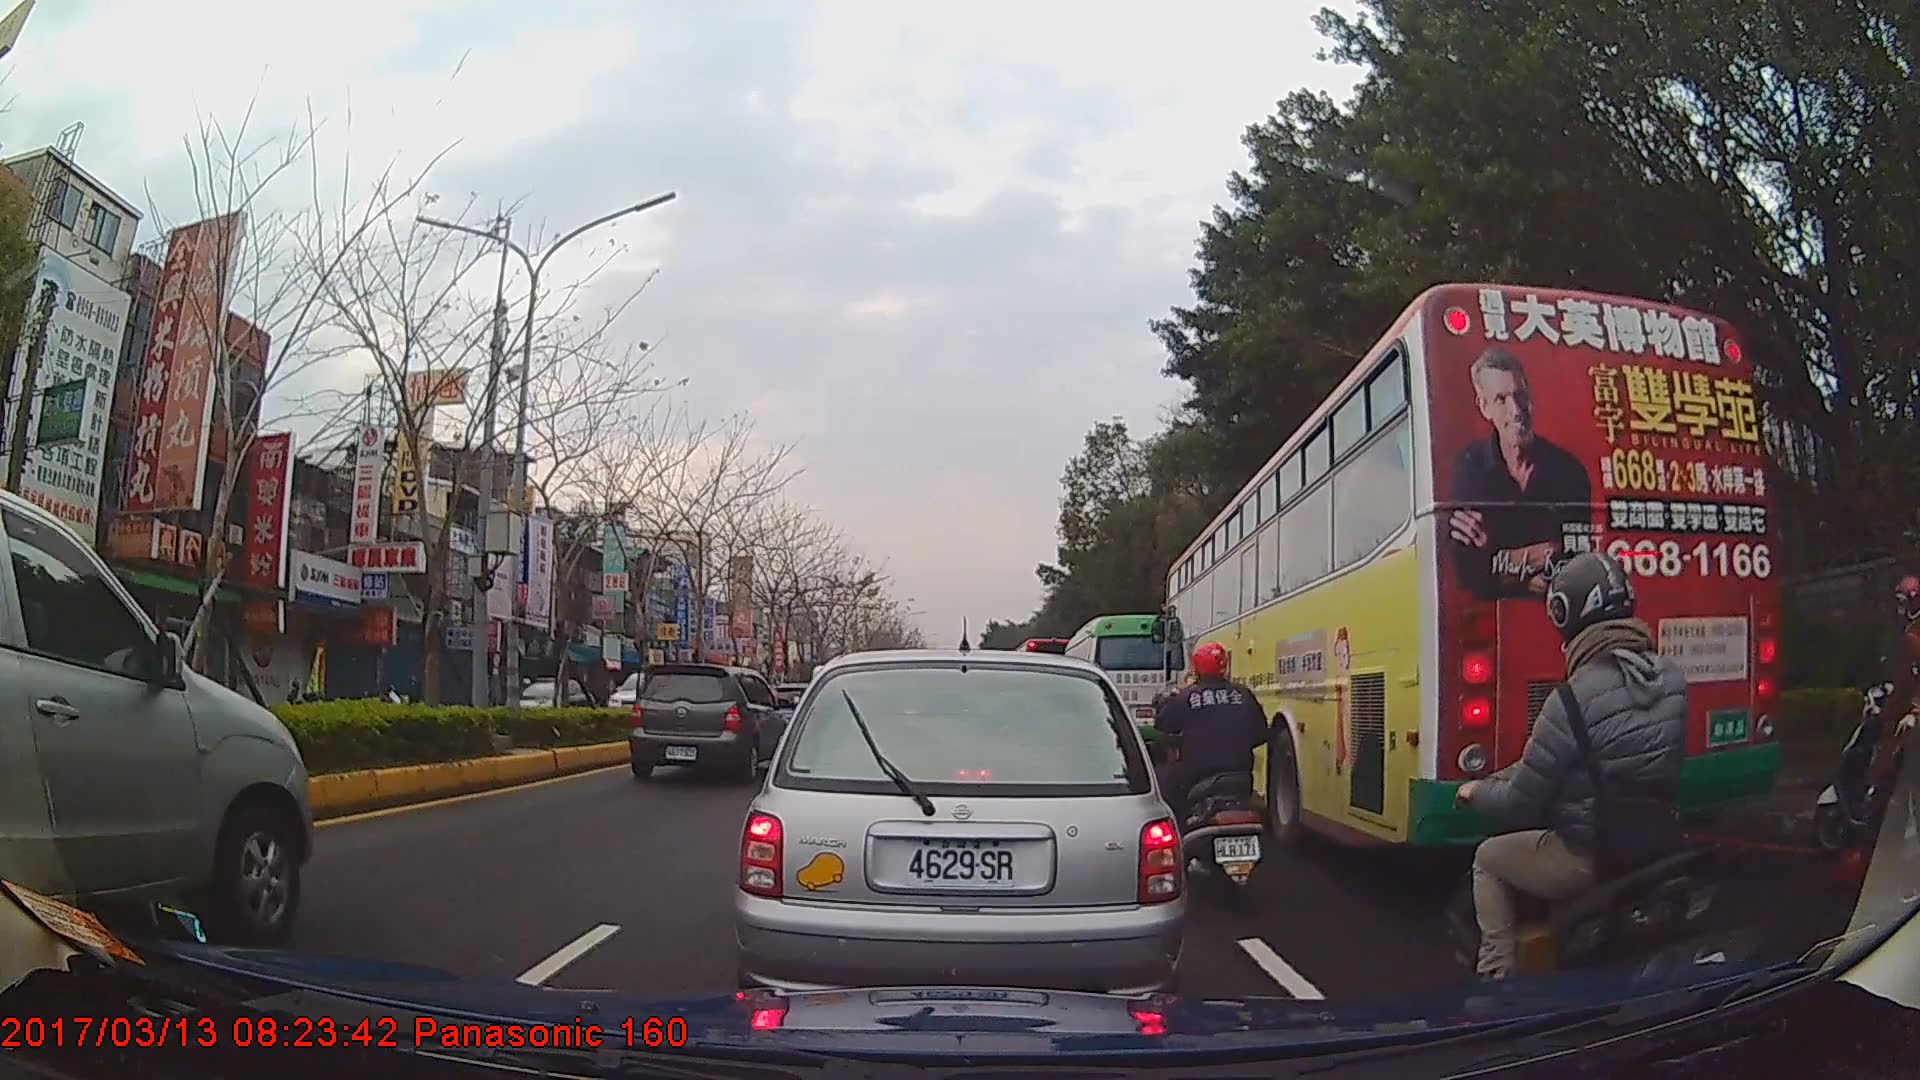rider: (1465, 549, 1718, 1040), (1144, 641, 1272, 910), (1815, 575, 1920, 882), (399, 675, 421, 706)
vehicle: (1160, 279, 1779, 870), (732, 648, 1187, 1021), (0, 465, 307, 966), (1058, 612, 1190, 765), (627, 663, 788, 782), (501, 672, 593, 731)
